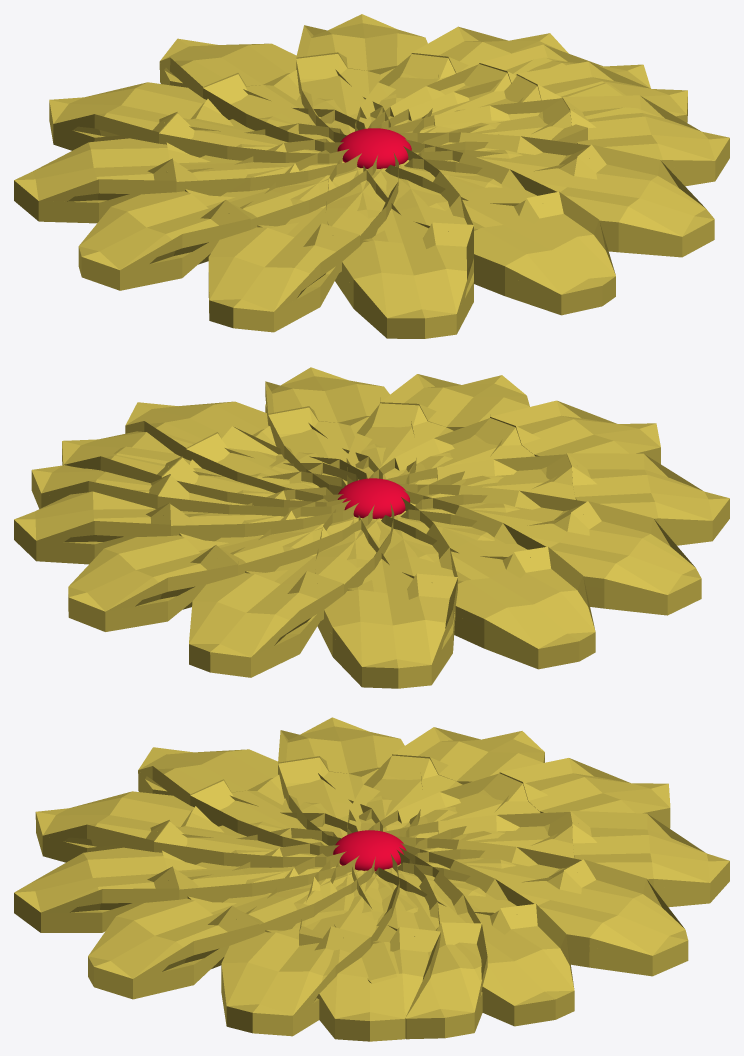
Rendered from semparit.fbx.
The picture shows the model from 3 angles, top to bottom: view 1: azimuth 30°, elevation 25°; view 2: azimuth 150°, elevation 25°; view 3: azimuth 270°, elevation 25°; orthographic projection.
Parts seen in each view (by area): view 1: Semparit; view 2: Semparit; view 3: Semparit.
Part boxes in pixels (box(x1,y1,x2,y2)): Semparit: box(14, 14, 729, 338); Semparit: box(14, 367, 729, 688); Semparit: box(14, 717, 729, 1041).
Size of the model in its own units: 242 by 22.61 by 241.
